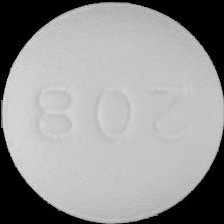43353-091: (0, 0, 224, 224)
